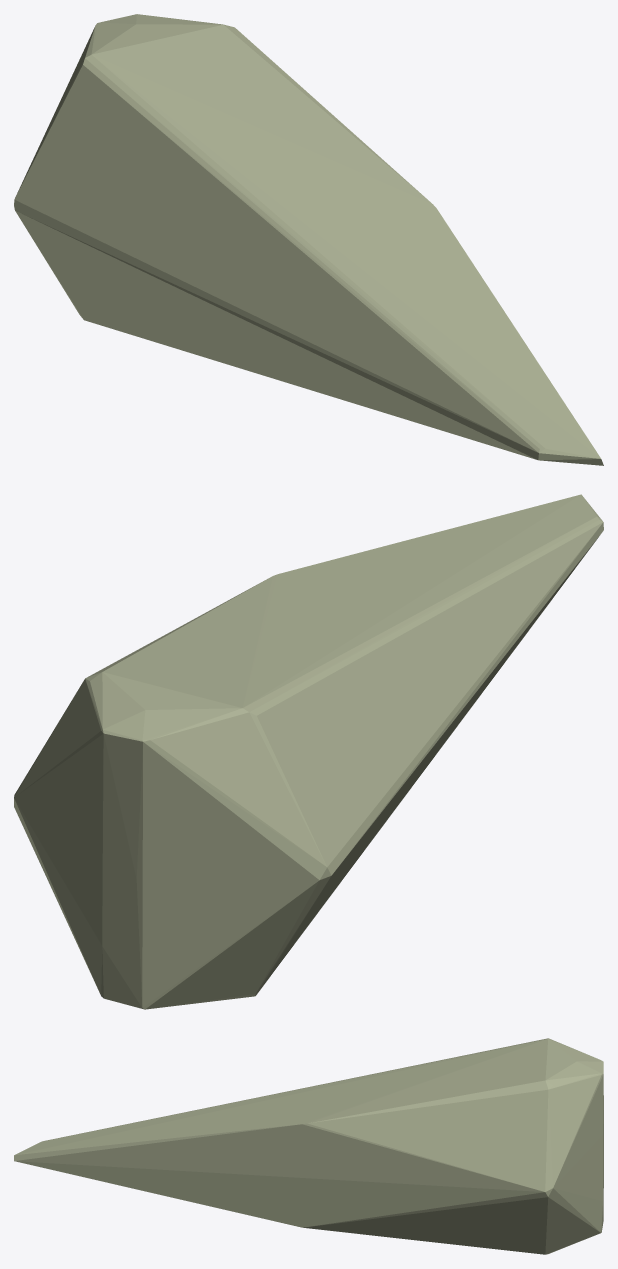
Rendered from IV_pole_b03.glb.
3 renders of one model, top to bottom at view 1: azimuth 30°, elevation 25°; view 2: azimuth 150°, elevation 25°; view 3: azimuth 270°, elevation 25°, orthographic. The views are drawn at different scales.
Visible parts, largest first — view 1: geometry_0; view 2: geometry_0; view 3: geometry_0.
Boxes of the visible parts, x1,y1,x2,y2 form: geometry_0: (14, 14, 603, 465); geometry_0: (14, 494, 603, 1009); geometry_0: (14, 1038, 603, 1254).
Size of the model in its own units: 0.1773 by 0.1558 by 0.4799.
